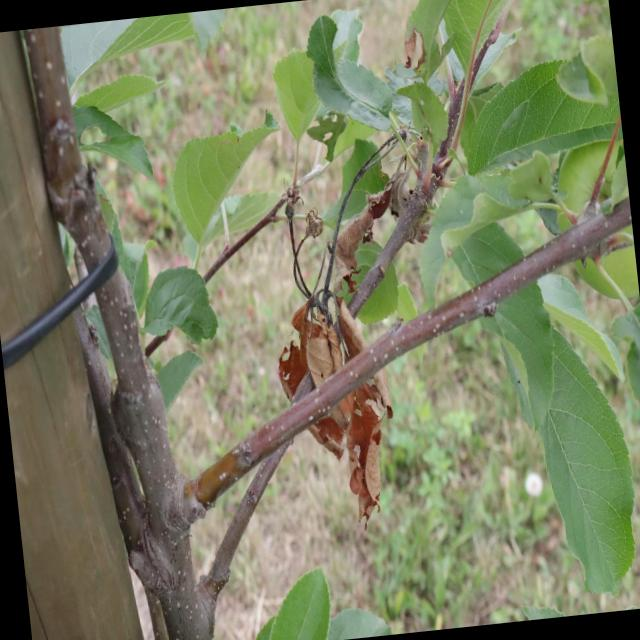-FireBlight-: (316, 376, 402, 518), (278, 286, 366, 391), (324, 192, 399, 306)
